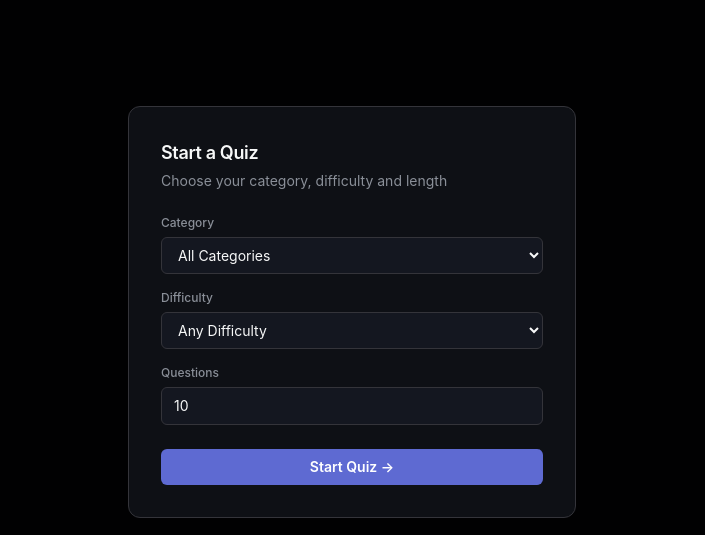
Test: Quiz › shows results after finishing the last question
The image size is (705, 535).
Click the button "Start Quiz →".
click(352, 467)  # box [161,449,543,485]
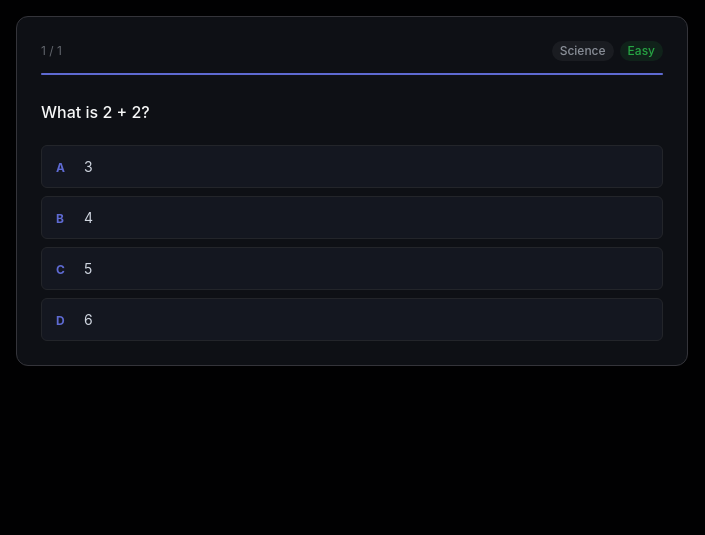
Expected: the text "What is 2 + 2?" is shown, [41,102,150,122]
Click the button "B 4".
click(60, 218)  # box [41,196,663,239]
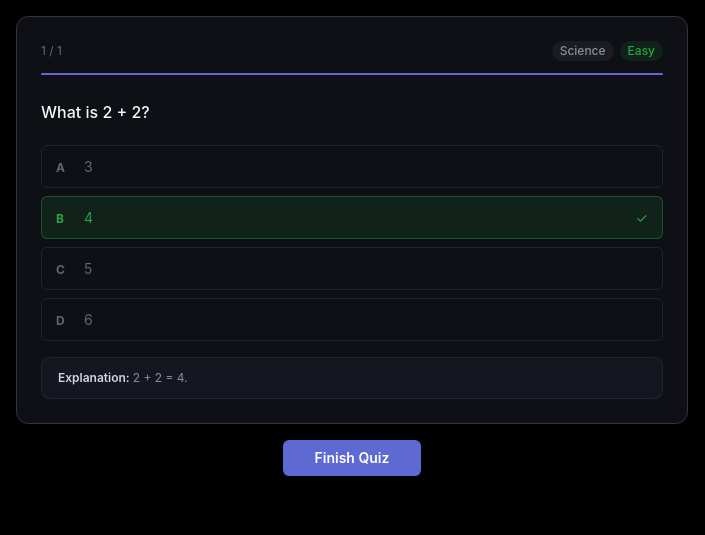
Expected: the button "Finish Quiz" is shown
Click the button "Finish Quiz".
click(352, 458)  # box [282,440,421,476]
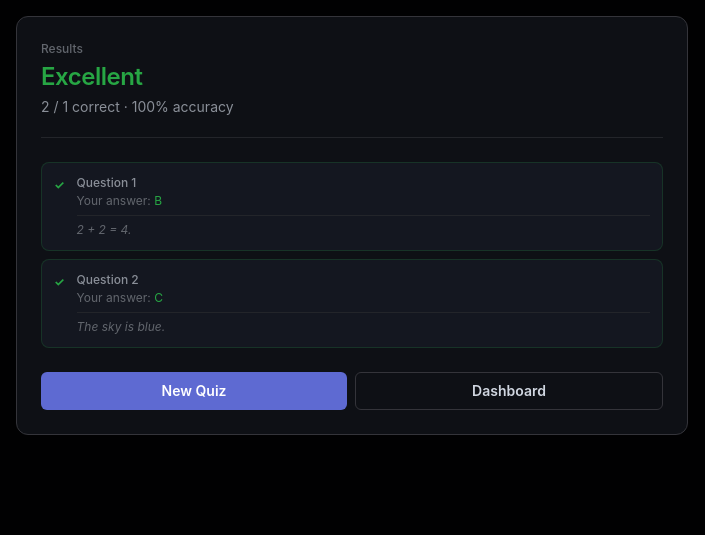
Expected: the heading "Excellent" is shown, [41,62,142,91]
